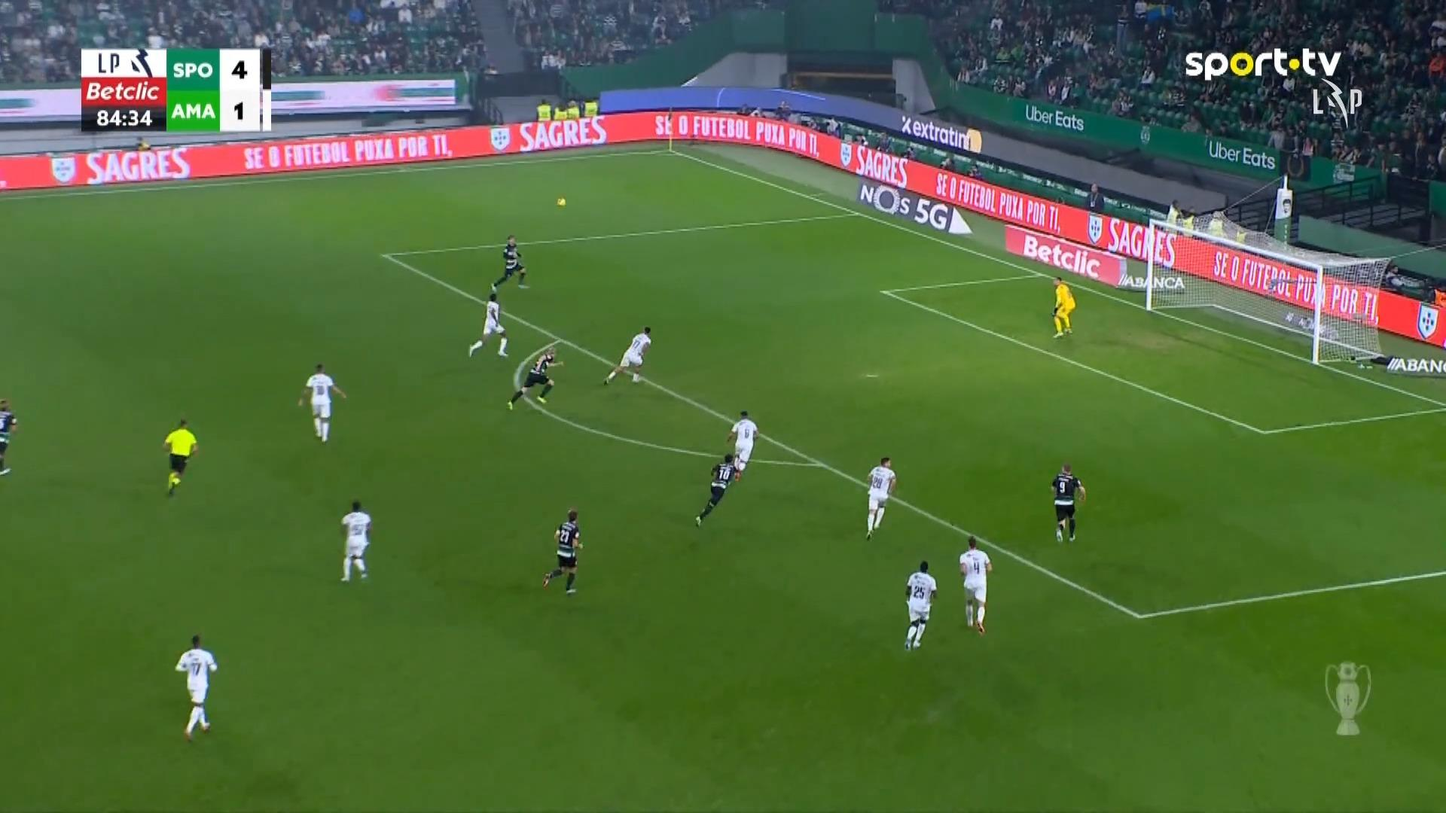ball: (556, 197, 566, 207)
goalkeeper: (1051, 276, 1075, 338)
player: (174, 633, 218, 741), (297, 362, 346, 443), (505, 346, 563, 410), (541, 508, 584, 594), (694, 452, 739, 528), (958, 535, 992, 634), (903, 559, 937, 650), (602, 325, 652, 385), (1050, 463, 1085, 542), (468, 291, 509, 358), (340, 499, 372, 582), (865, 456, 896, 540), (726, 410, 760, 481), (490, 234, 529, 294), (0, 397, 18, 475)
referee: (161, 418, 199, 496)
